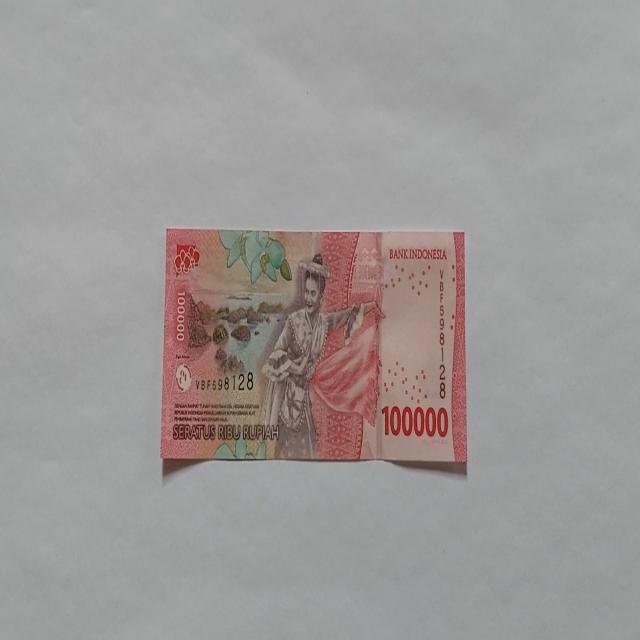seratus ribu rupiah: (160, 228, 467, 466), (256, 252, 370, 458)
